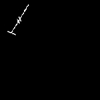treble_crochet: (8, 5, 28, 33)
